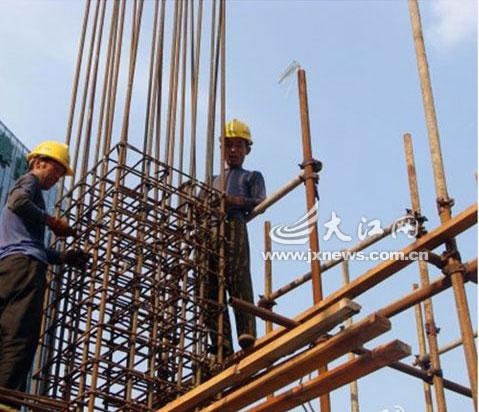helmet: (22, 135, 73, 191), (215, 116, 258, 167)
